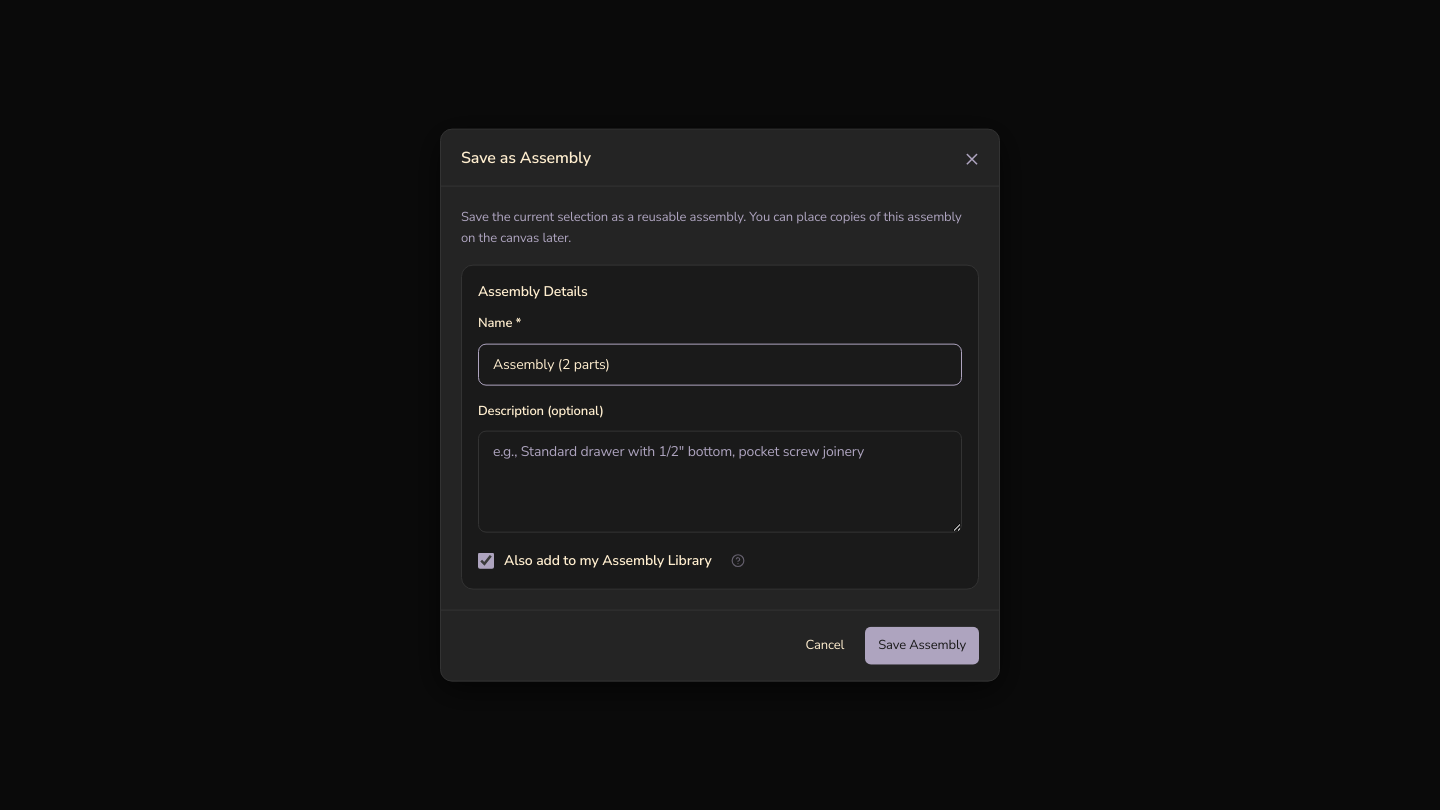
SaveAssemblyModal › form validation › shows error when name is empty and form is submitted
// Clear the name input
Clear the field with placeholder "e.g., Drawer Assembly, Face Frame" at [720, 364], box [478,343,962,385]
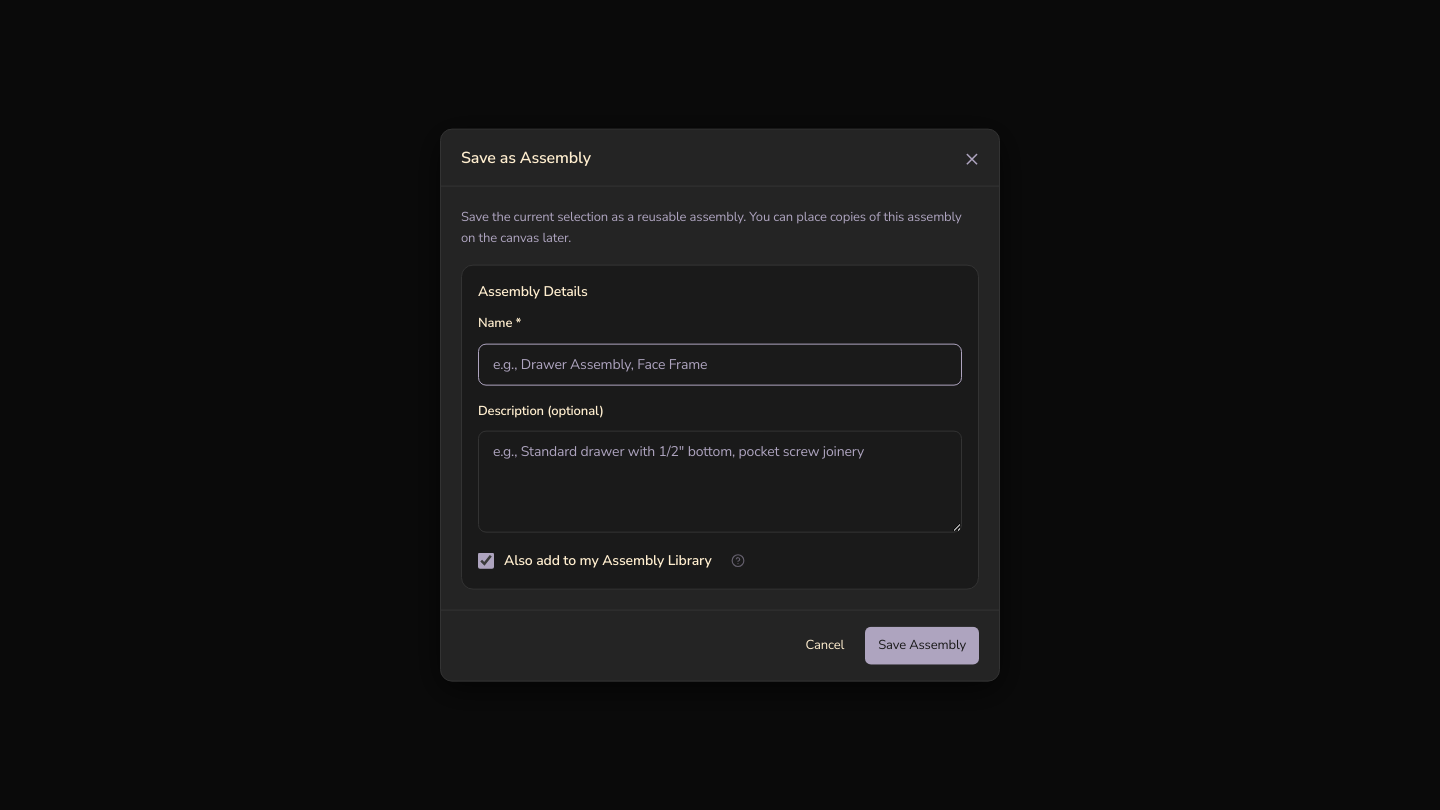
// Submit the form
Click the button "Save Assembly" at [922, 646], box [865,627,979,664]
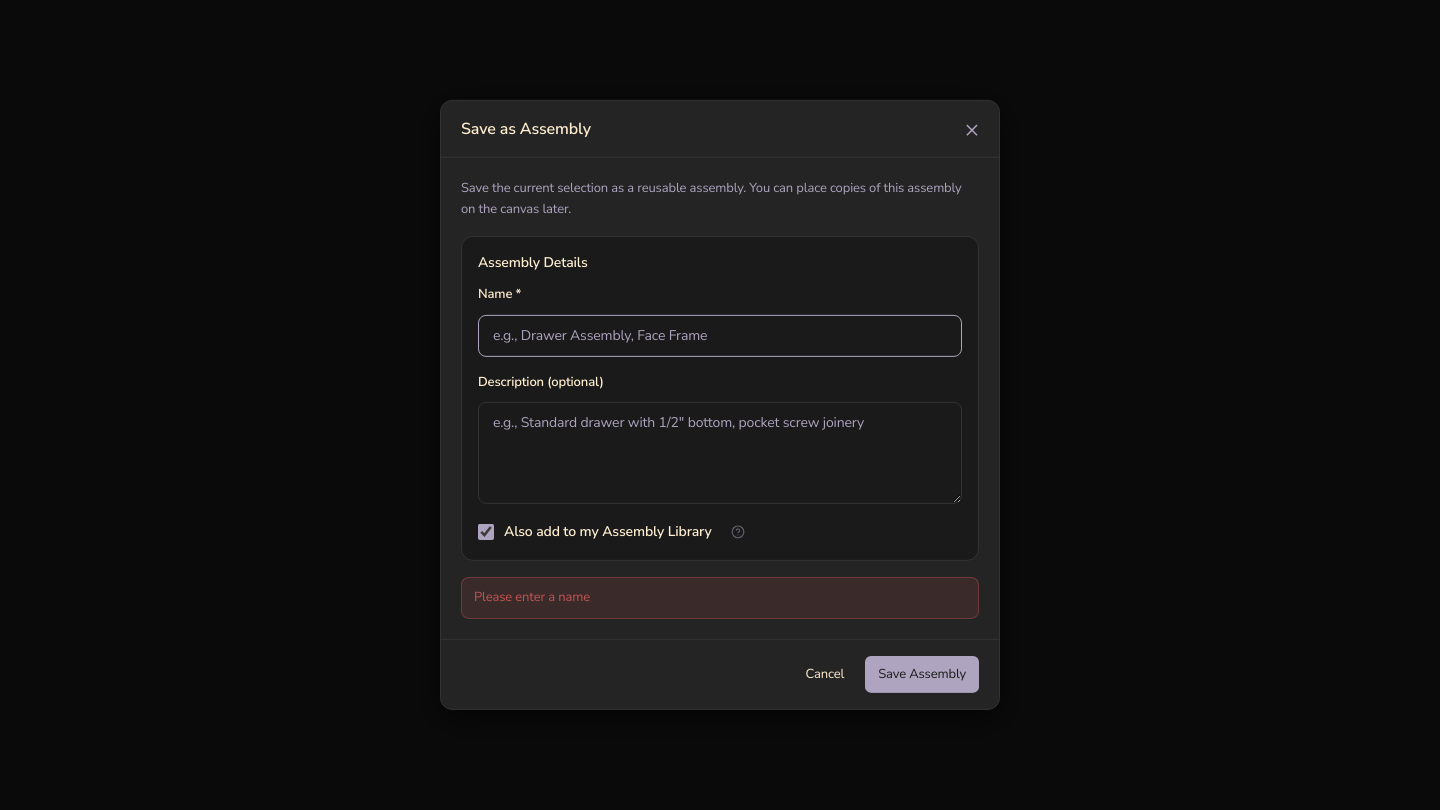
Expected: the text "Please enter a name" is shown, [461,577,979,619]
